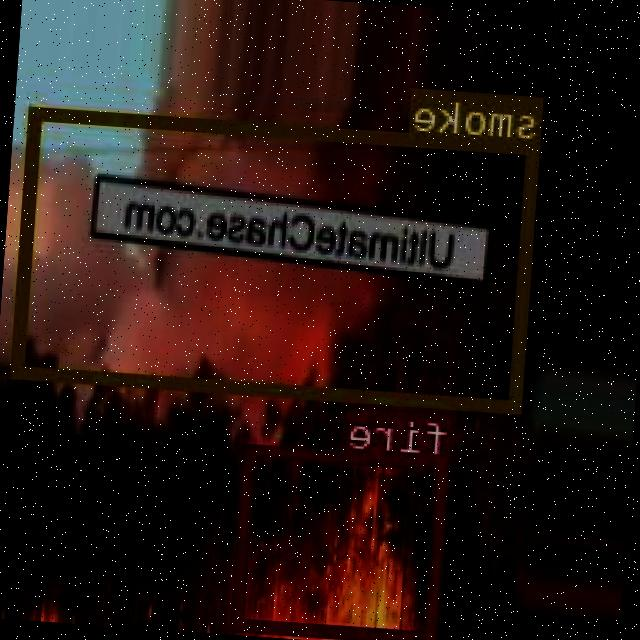fire: (232, 440, 452, 640)
smoke: (14, 104, 544, 411)
